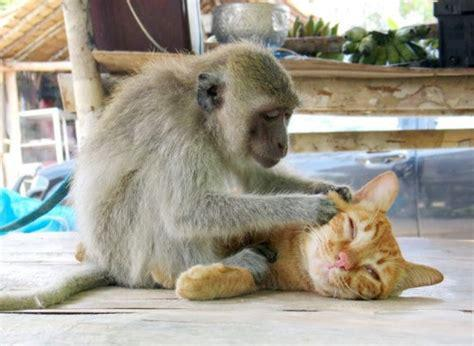cat: (177, 170, 444, 300)
monkey: (1, 41, 348, 310)
